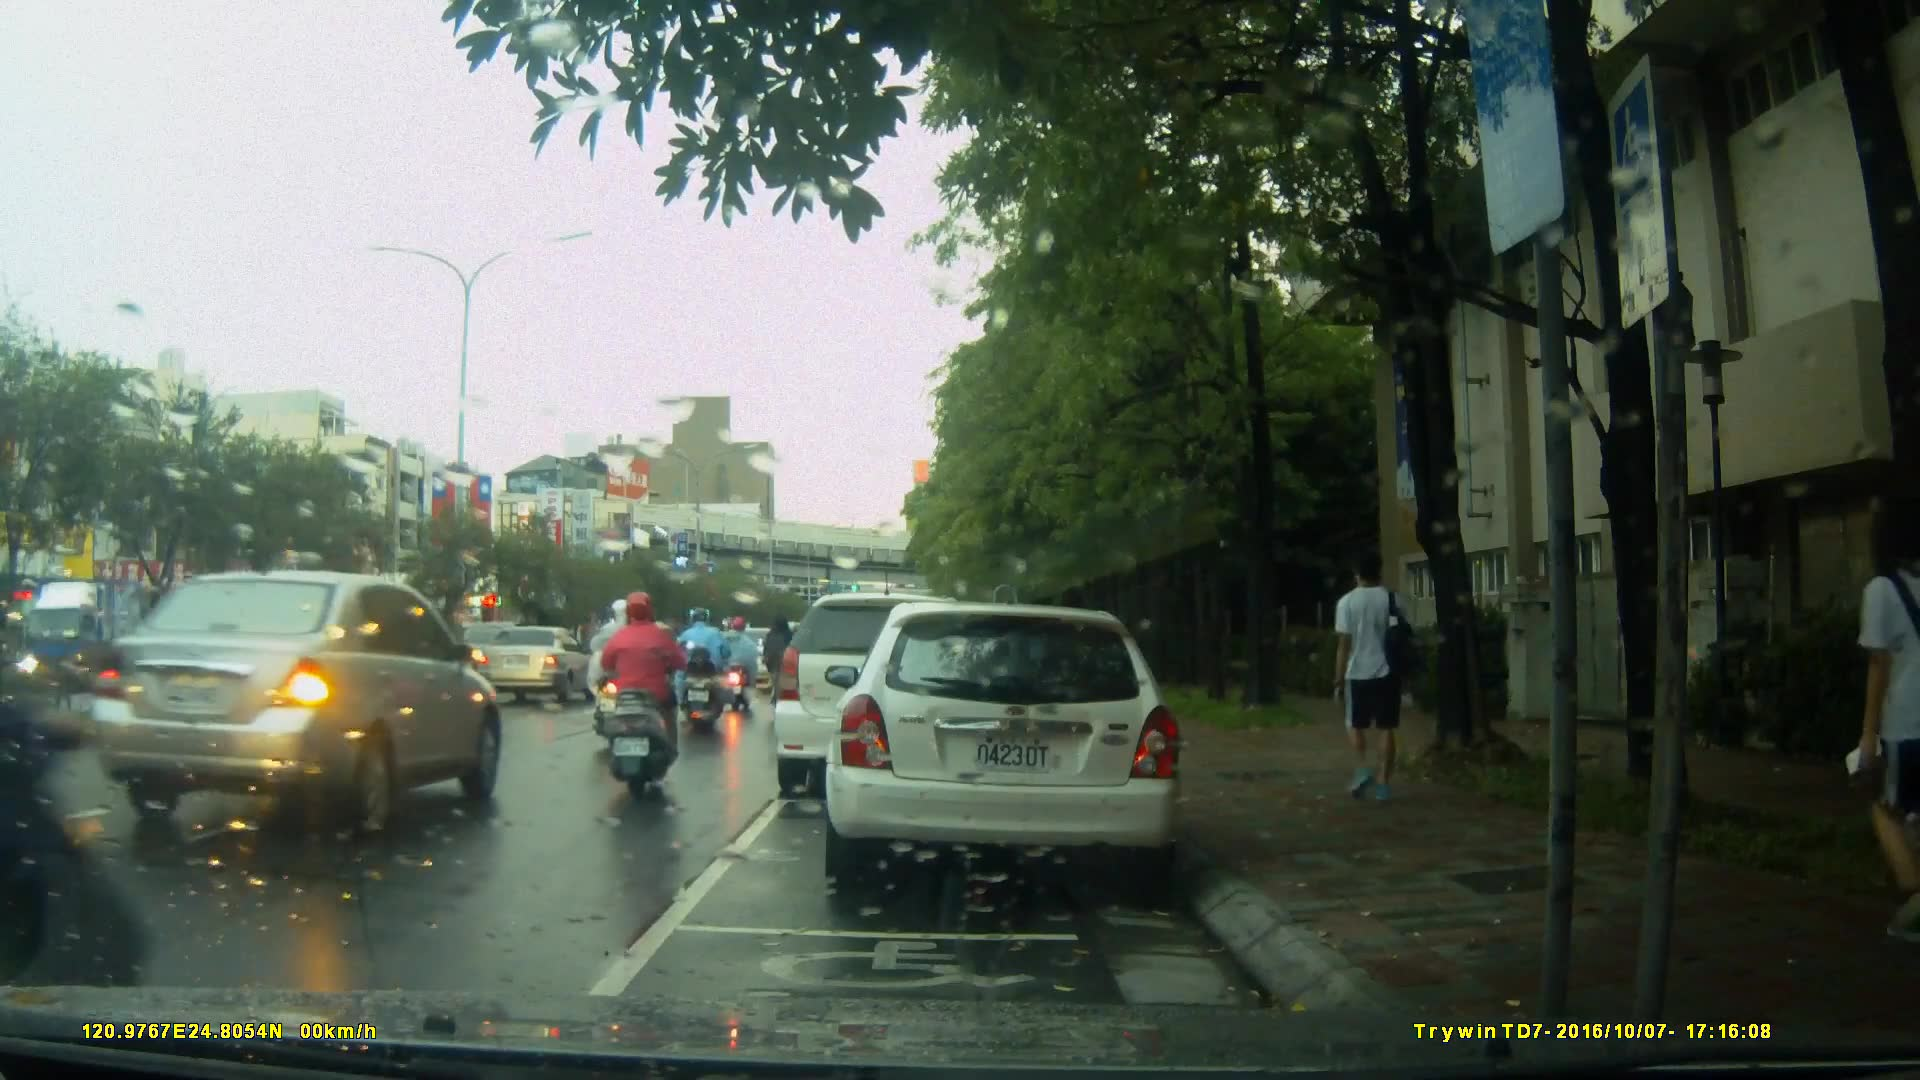pedestrian: (1829, 502, 1920, 940), (1328, 550, 1423, 820)
rider: (1, 453, 153, 1048), (588, 592, 677, 805), (595, 601, 650, 761), (674, 608, 734, 738), (722, 613, 764, 713), (766, 610, 801, 727)
vehicle: (89, 569, 506, 842), (822, 604, 1188, 882), (774, 595, 995, 802), (476, 623, 599, 708)
